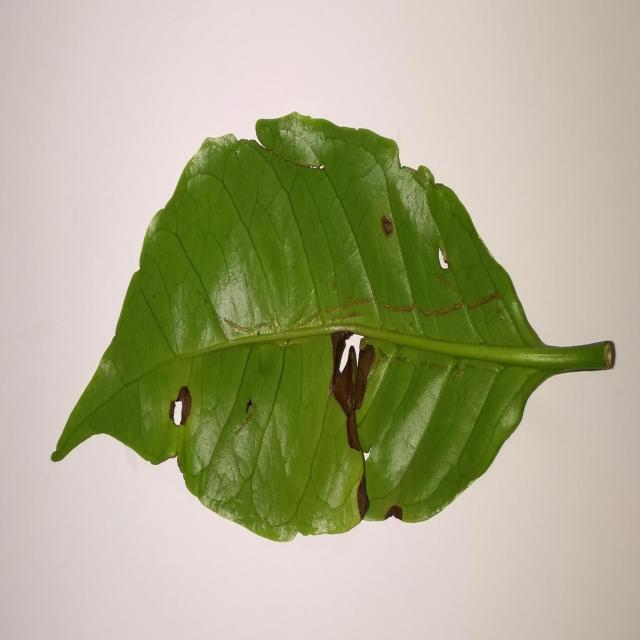Enfermedad-Antracnosis: (50, 112, 616, 546)
